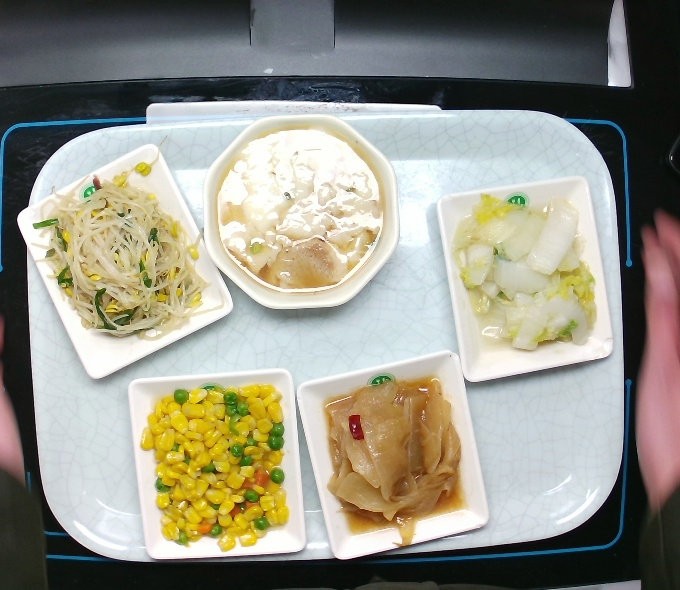wcq-DaBaiCai: (448, 191, 604, 358)
wcq-DongGua: (320, 371, 475, 551)
wcq-DouYa: (24, 132, 228, 345)
wcq-ShuiZhengDan: (212, 124, 387, 295)
wcq-TianMiTianDou: (137, 381, 296, 553)
